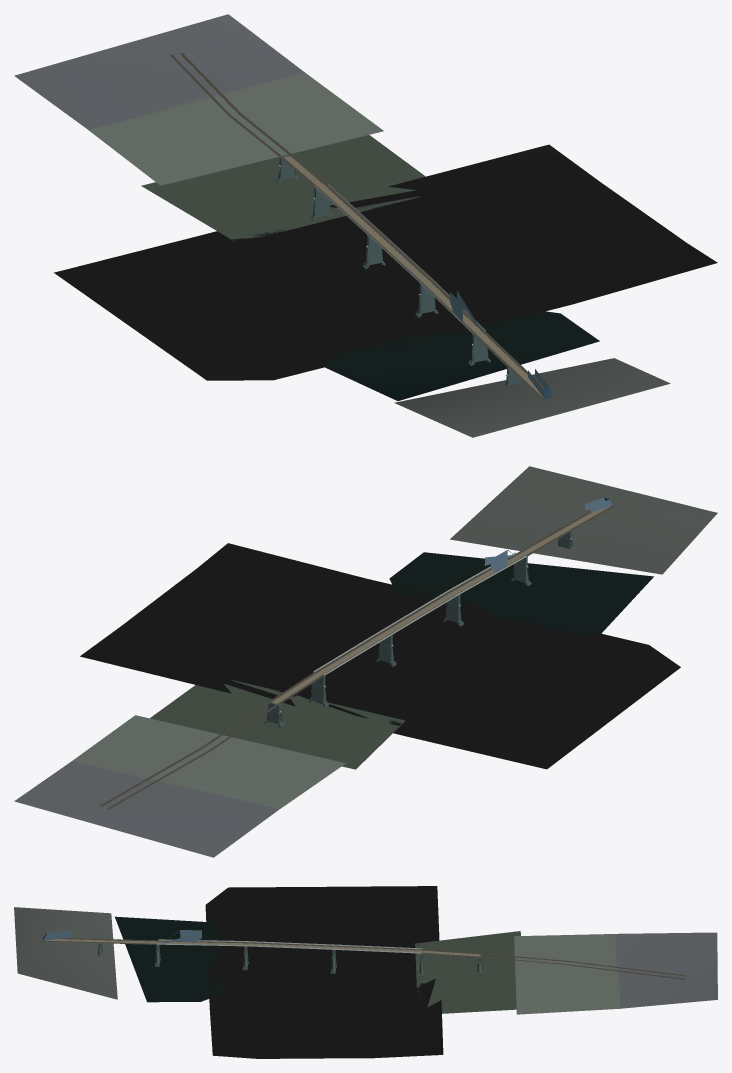
The model's file is walnut-street-bridge.glb.
3 views of the same model, one above another, from view 1: azimuth 30°, elevation 25°; view 2: azimuth 150°, elevation 25°; view 3: azimuth 270°, elevation 25° (orthographic). The views are drawn at different scales.
Parts seen in each view (by area): view 1: LOD0; view 2: LOD0; view 3: LOD0.
Part boxes in pixels (box(x1,y1,x2,y2)): LOD0: box(14, 14, 717, 437); LOD0: box(14, 466, 717, 857); LOD0: box(14, 886, 717, 1058).
Size of what is drawn, in the model's own units: 452 by 41.47 by 777.
3 materials, 3 textured.
